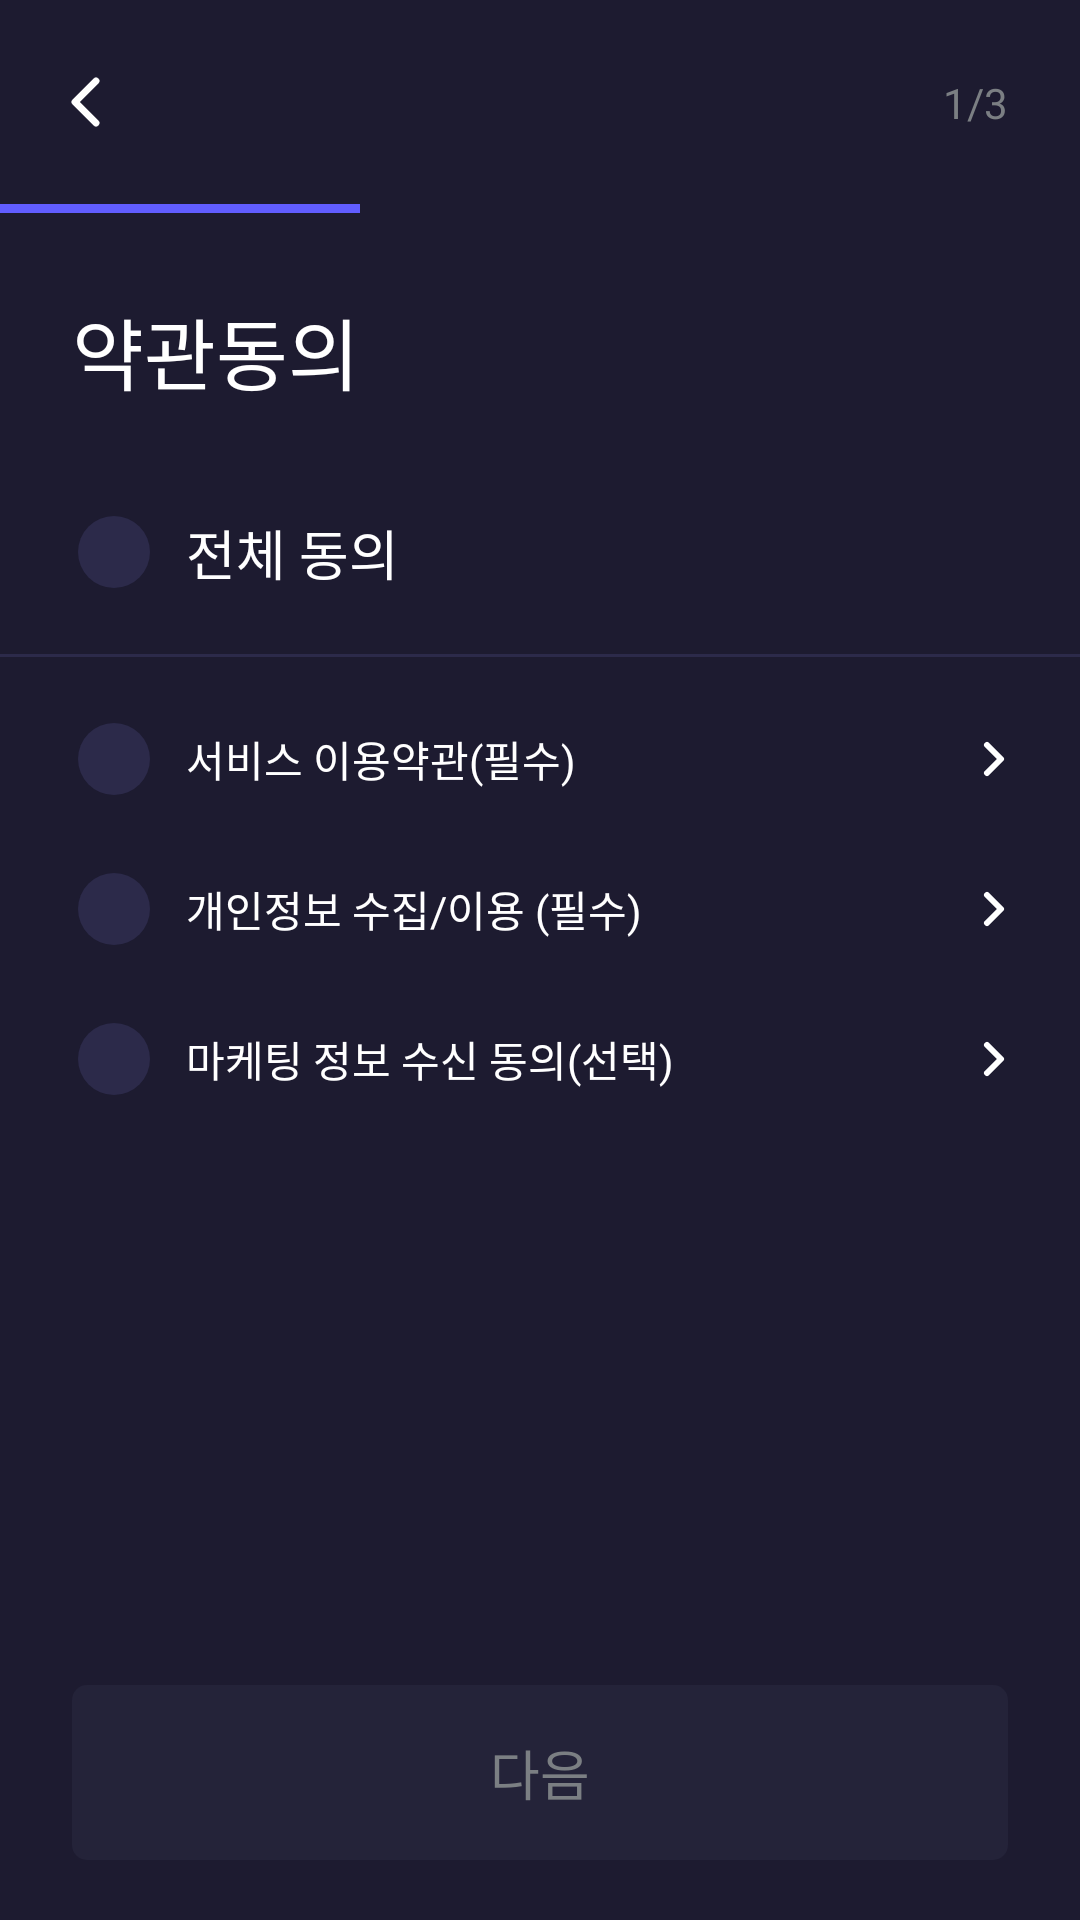

Icon bounding boxes for this 1080w x 1920h phone screenshot, format bbox=[x1, y1, x2, y2]:
arrow left: bbox=[71, 77, 100, 127]
arrow right: bbox=[984, 742, 1004, 776], bbox=[984, 892, 1004, 926], bbox=[984, 1042, 1004, 1076]
